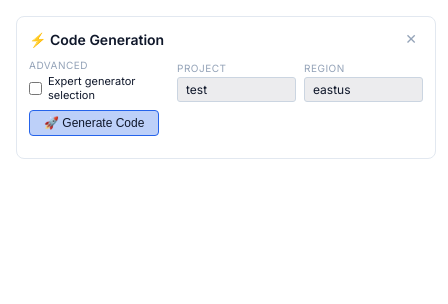
CodePreview › clears output and errors when generator changes
Click the button "🚀 Generate Code" at (94, 123), box [29,110,159,136]
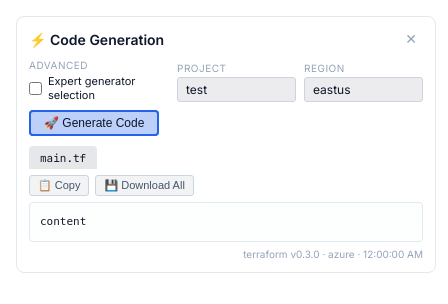
expect the button "main.tf" is shown: met, box [29,146,97,169]
Click the checkbox labelled "Expert generator selection" at (36, 88), box [29,82,42,94]
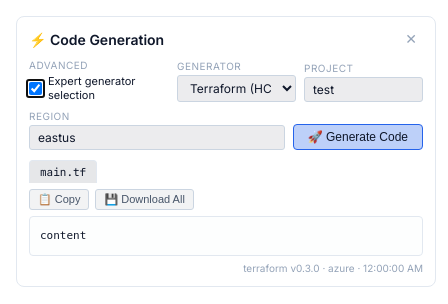
Select "Bicep (Azure) (Experimental)" in the dropdown at (236, 88), box [177,75,296,102]
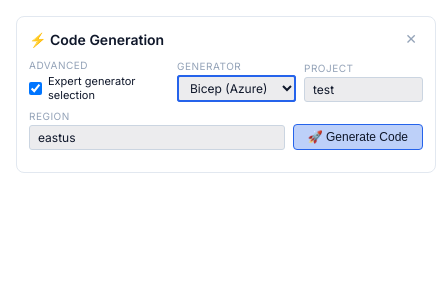
expect the button "main.tf" is gone: met
